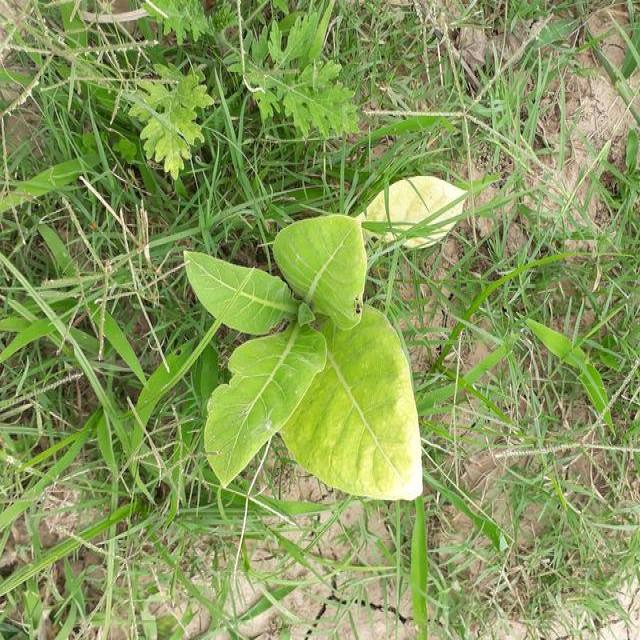crop: (186, 219, 434, 508)
